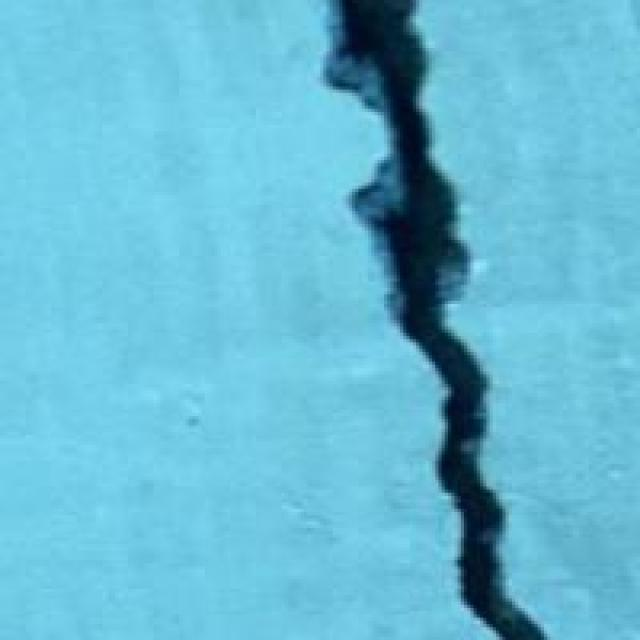Crack: (233, 0, 566, 630)
